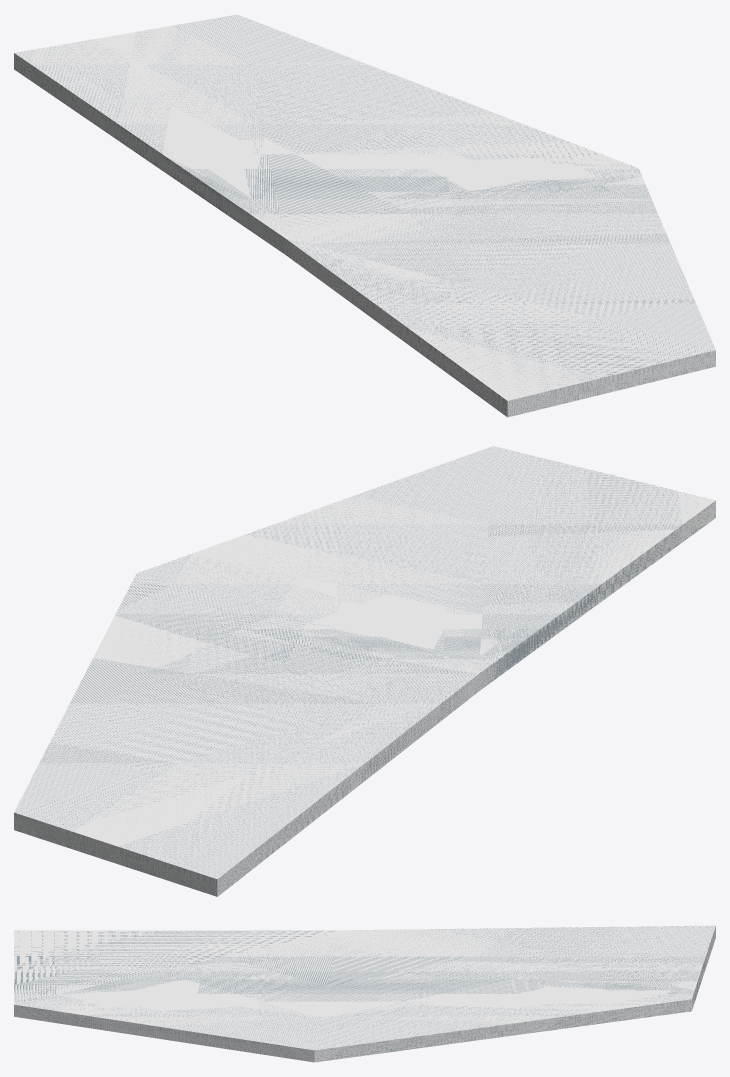
Rendered from scenarioBase.dae.
3 renders of one model, top to bottom at view 1: azimuth 30°, elevation 25°; view 2: azimuth 150°, elevation 25°; view 3: azimuth 270°, elevation 25°, orthographic. The views are drawn at different scales.
Parts seen in each view (by area): view 1: SketchUp; view 2: SketchUp; view 3: SketchUp.
Boxes of the visible parts, x1,y1,x2,y2 form: SketchUp: [14, 14, 715, 417]; SketchUp: [14, 446, 715, 896]; SketchUp: [14, 925, 715, 1062].
Size of the model in its own units: 66.38 by 158 by 2.99.
